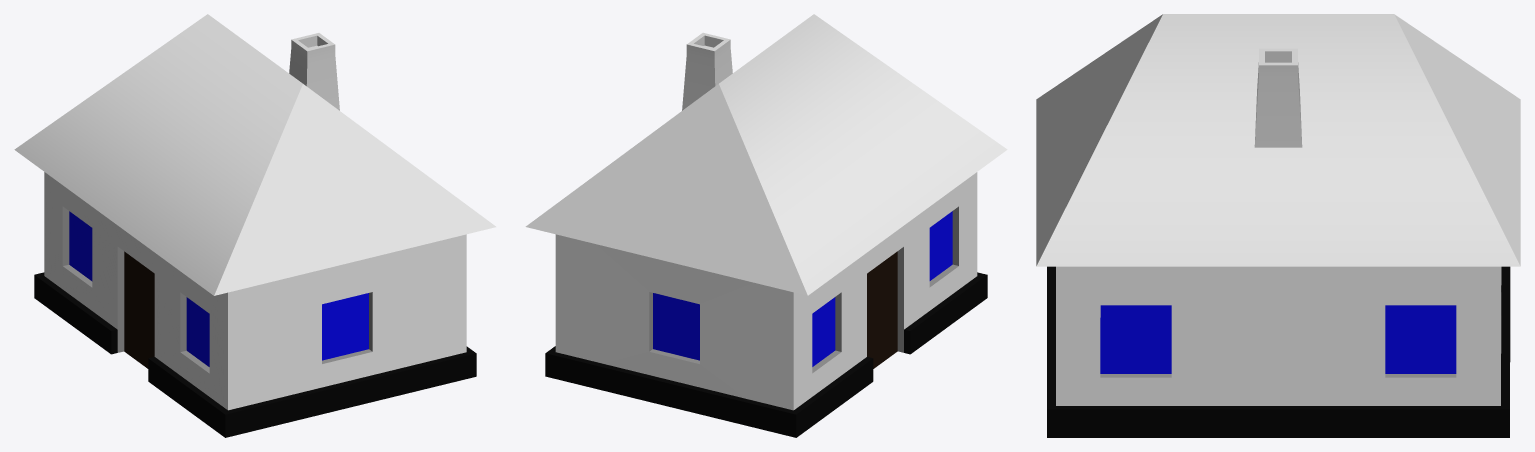
The model's file is house00.FBX.
3 renders of one model, left to right at view 1: azimuth 30°, elevation 25°; view 2: azimuth 150°, elevation 25°; view 3: azimuth 270°, elevation 25°, orthographic. The views are drawn at different scales.
Parts seen in each view (by area): view 1: Cylinder001, Box001, Box002; view 2: Cylinder001, Box001, Box002; view 3: Cylinder001, Box001, Box002.
Boxes of the visible parts, x1=… form: Cylinder001: x1=14, y1=14, x2=495, y2=295; Box001: x1=34, y1=172, x2=476, y2=437; Box002: x1=289, y1=33, x2=339, y2=110; Cylinder001: x1=525, y1=14, x2=1007, y2=295; Box001: x1=545, y1=172, x2=987, y2=437; Box002: x1=682, y1=32, x2=732, y2=110; Cylinder001: x1=1036, y1=14, x2=1520, y2=266; Box001: x1=1047, y1=266, x2=1510, y2=437; Box002: x1=1254, y1=48, x2=1302, y2=147.
Bounding box in the file's own units: 17.5 × 17.07 × 21.43.
